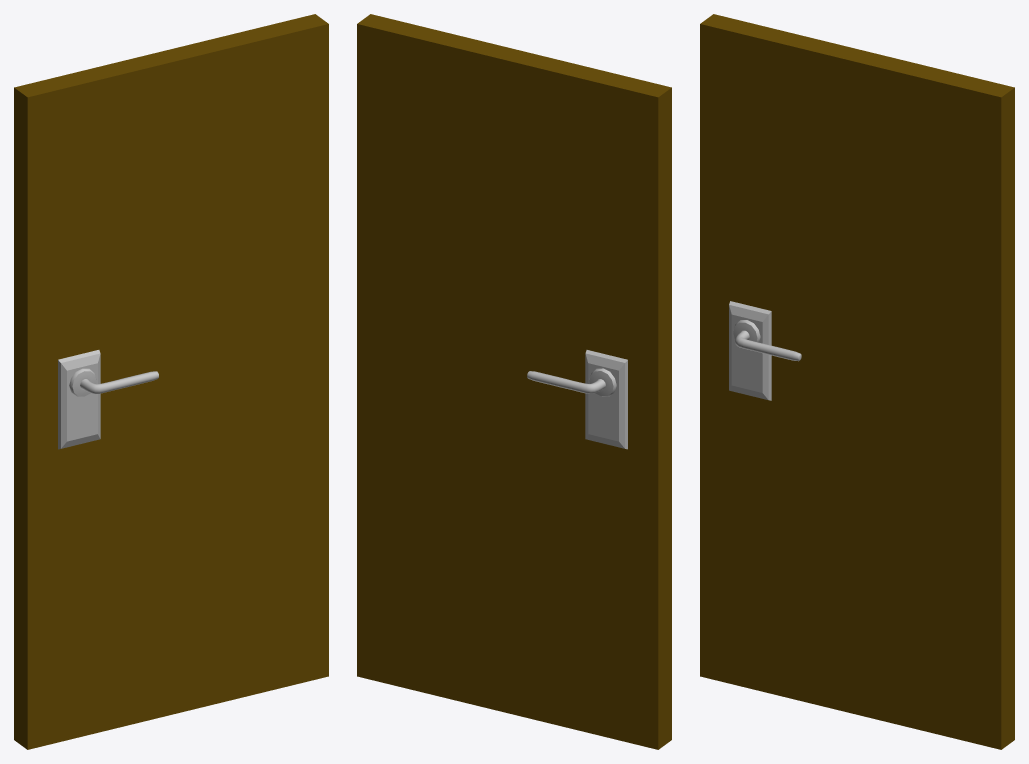
Rendered from door_withhandle_NEW_nonuv.fbx.
The picture shows the model from 3 angles, left to right: view 1: azimuth 30°, elevation 25°; view 2: azimuth 150°, elevation 25°; view 3: azimuth 330°, elevation 25°; orthographic projection.
Visible parts, largest first — view 1: door2_door_handle_other_part; view 2: door2_door_handle_other_part; view 3: door2_door_handle_other_part.
Part boxes in pixels (left/top/right/bottom): door2_door_handle_other_part: left=14, top=14, right=328, bottom=749; door2_door_handle_other_part: left=357, top=14, right=671, bottom=749; door2_door_handle_other_part: left=700, top=14, right=1014, bottom=749.
Bounding box in the file's own units: 1 × 2.07 × 0.2764.
